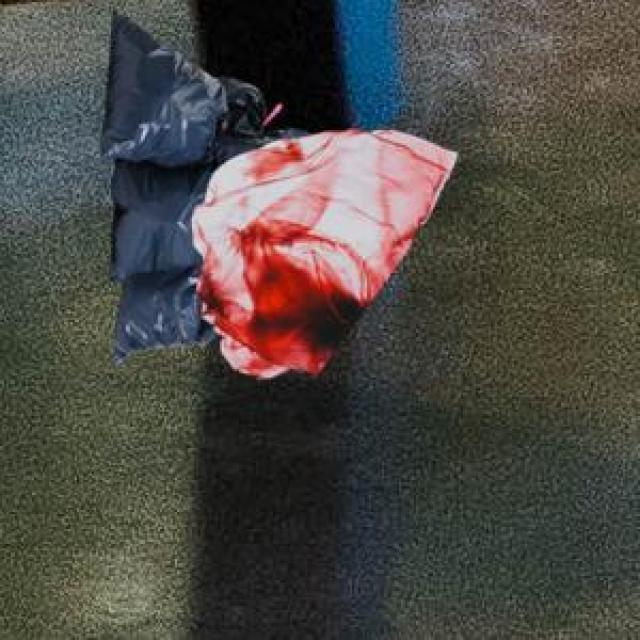miscellaneous trash: (96, 6, 307, 361)
